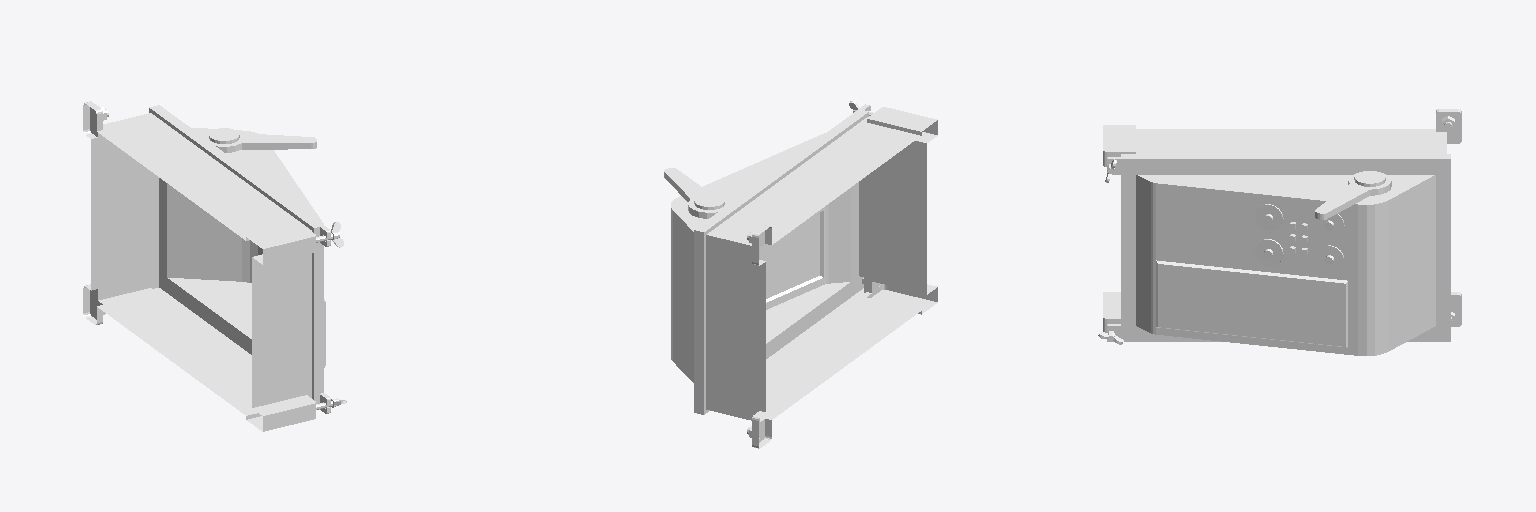
Rendered from electricalboxA.obj.
3 renders of one model, left to right at view 1: azimuth 30°, elevation 25°; view 2: azimuth 150°, elevation 25°; view 3: azimuth 270°, elevation 25°, orthographic.
Visible parts, largest first — view 1: electricalboxA; view 2: electricalboxA; view 3: electricalboxA.
Part boxes in pixels (bbox=[...]): electricalboxA: bbox=[83, 101, 346, 431]; electricalboxA: bbox=[664, 101, 937, 448]; electricalboxA: bbox=[1098, 109, 1461, 355].
Size of the model in its own units: 35.18 by 44.16 by 67.82.